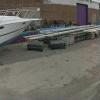Boat: (1, 7, 35, 49)
